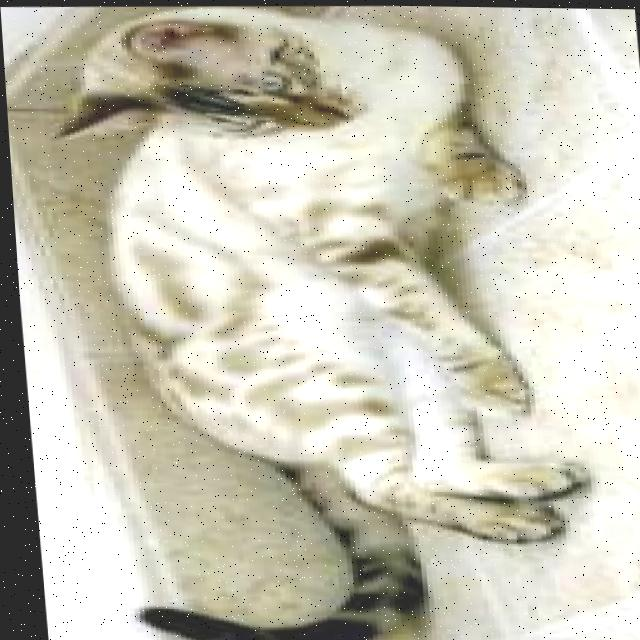Bengal: (29, 0, 610, 640)
